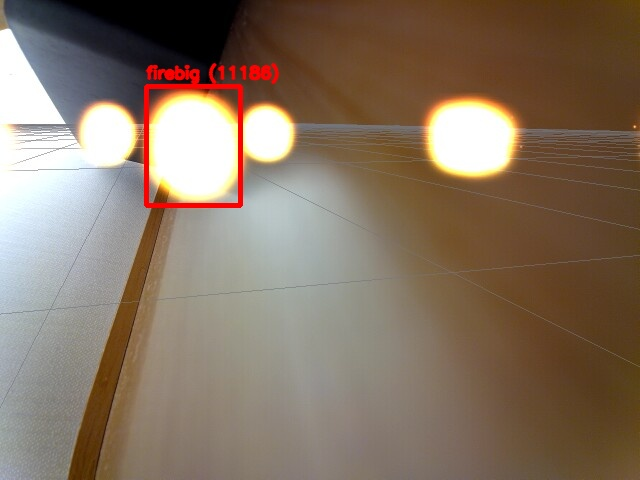firebig: (146, 86, 240, 205)
